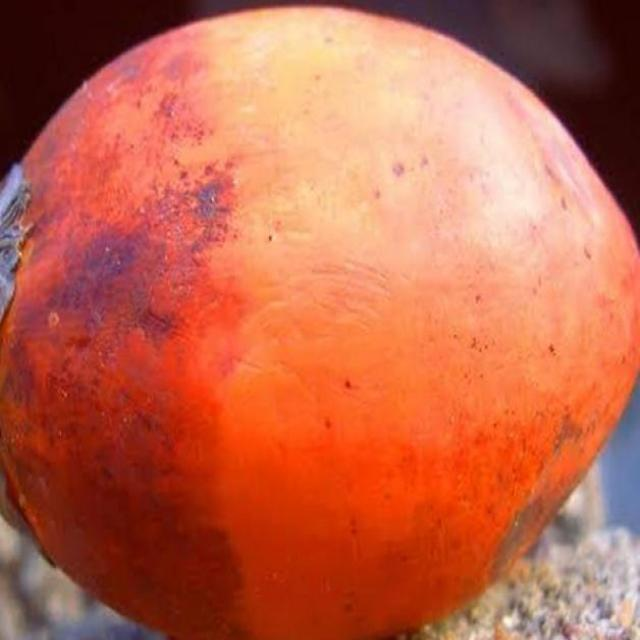good: (0, 7, 639, 639)
